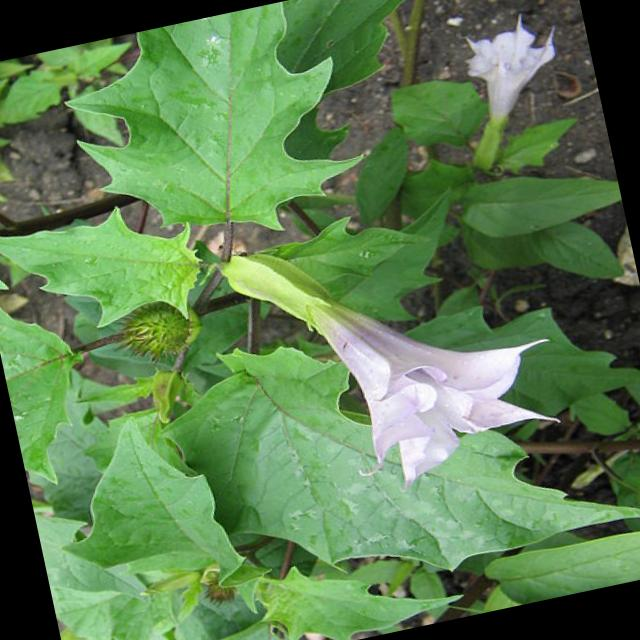Poisonous-Datura_Stramonium: (202, 163, 564, 543), (54, 0, 390, 256), (449, 9, 596, 184)
